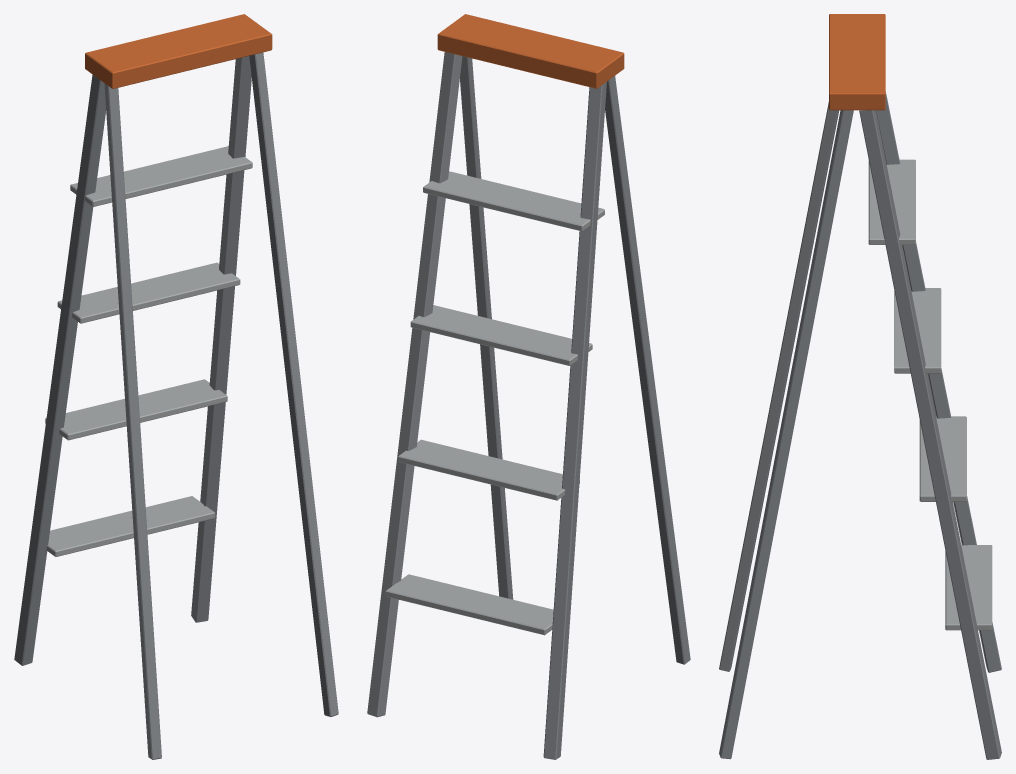
Rendered from prop_step_ladder.glb.
3 renders of one model, left to right at view 1: azimuth 30°, elevation 25°; view 2: azimuth 150°, elevation 25°; view 3: azimuth 270°, elevation 25°, orthographic. The views are drawn at different scales.
Parts seen in each view (by area): view 1: Ladder; view 2: Ladder; view 3: Ladder.
Part boxes in pixels (<box>): Ladder: <box>14,14,338,759</box>; Ladder: <box>367,14,690,759</box>; Ladder: <box>719,14,1001,759</box>.
Size of what is drawn, in the model's own units: 0.4733 by 1.54 by 0.599.
